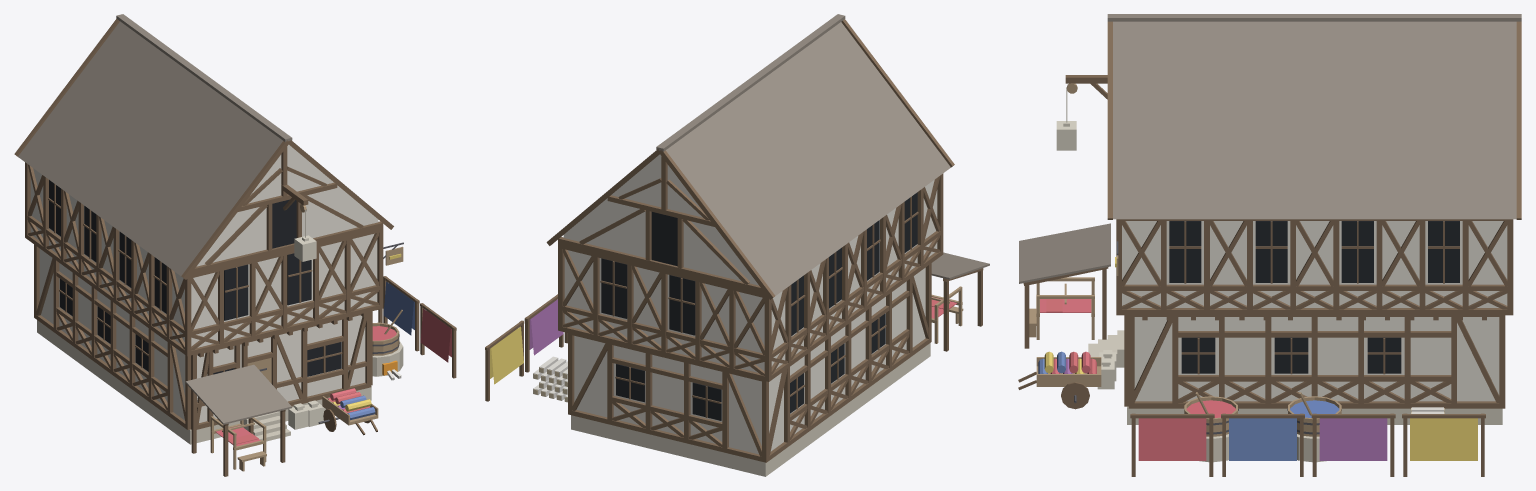
The model's file is house_weaver.glb.
3 renders of one model, left to right at view 1: azimuth 30°, elevation 25°; view 2: azimuth 150°, elevation 25°; view 3: azimuth 270°, elevation 25°, orthographic. The views are drawn at different scales.
Visible parts, largest first — view 1: HouseWeaver; view 2: HouseWeaver; view 3: HouseWeaver.
Boxes of the visible parts, left/top/right/bottom form: HouseWeaver: left=14, top=14, right=456, bottom=476; HouseWeaver: left=485, top=14, right=989, bottom=476; HouseWeaver: left=1018, top=14, right=1521, bottom=476.
Size of the model in its own units: 12.49 by 12.11 by 15.57.
